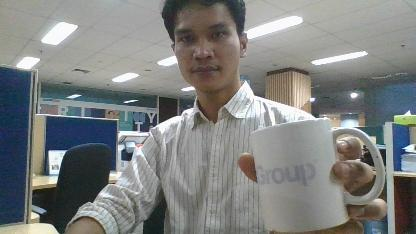Glass Cup: (247, 117, 351, 233)
